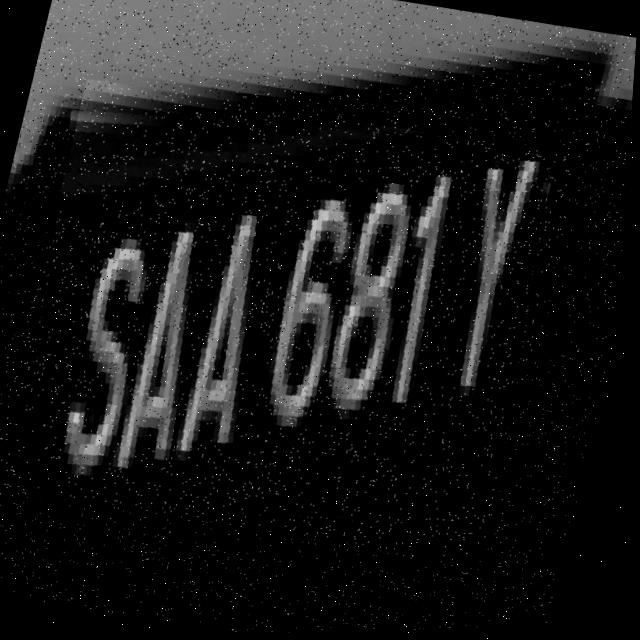LicensePlate: (0, 71, 585, 573)
